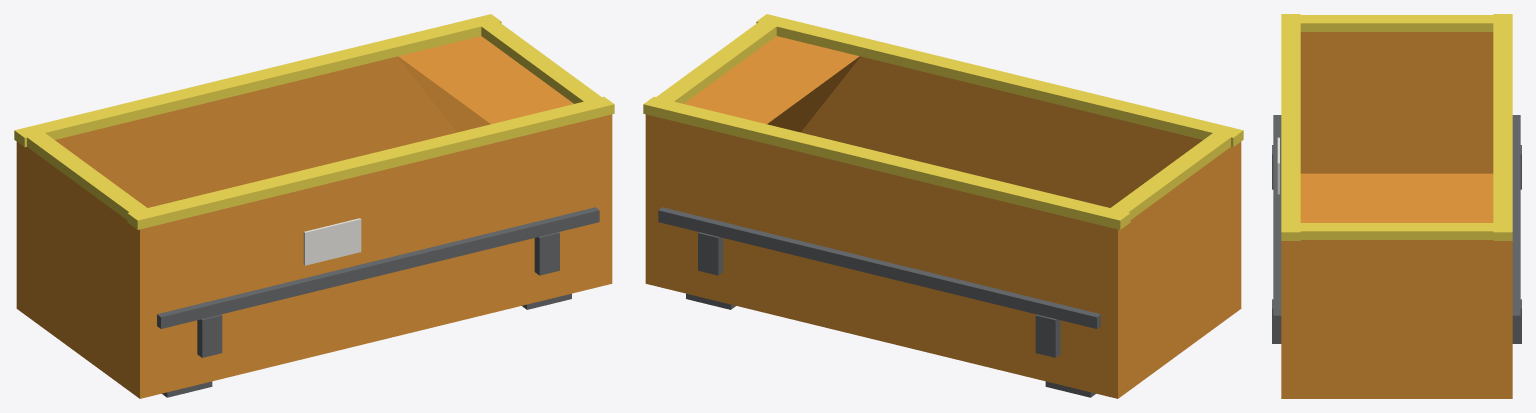
Rendered from demolition-and-site-clearance-demolition-and-site-clea-1ec72fba__35701.glb.
3 views of the same model, side by side, from view 1: azimuth 30°, elevation 25°; view 2: azimuth 150°, elevation 25°; view 3: azimuth 270°, elevation 25° (orthographic). The views are drawn at different scales.
Visible parts, largest first — view 1: demolition-and-site-clearance-waste-skip; view 2: demolition-and-site-clearance-waste-skip; view 3: demolition-and-site-clearance-waste-skip.
Part boxes in pixels (x1,y1,x2,y2): demolition-and-site-clearance-waste-skip: (14,14,614,398); demolition-and-site-clearance-waste-skip: (643,14,1243,398); demolition-and-site-clearance-waste-skip: (1272,14,1521,398).
Size of the model in its own units: 4.24 by 1.62 by 2.05.
